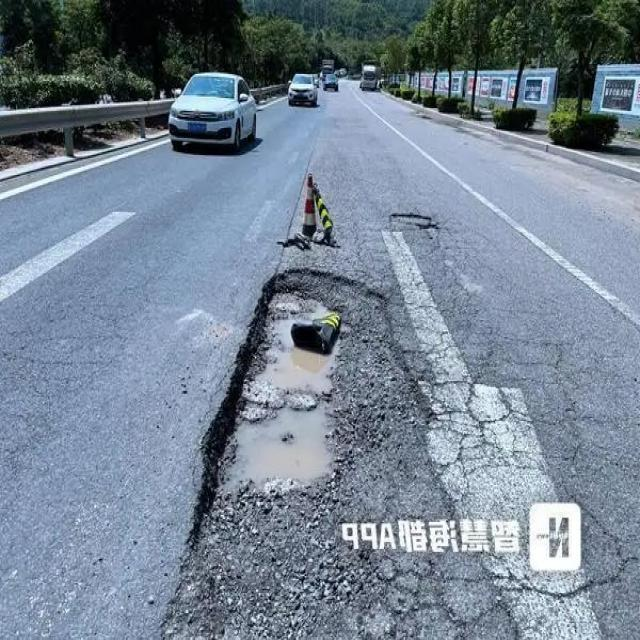pothole: (180, 266, 379, 556), (387, 209, 441, 238)
